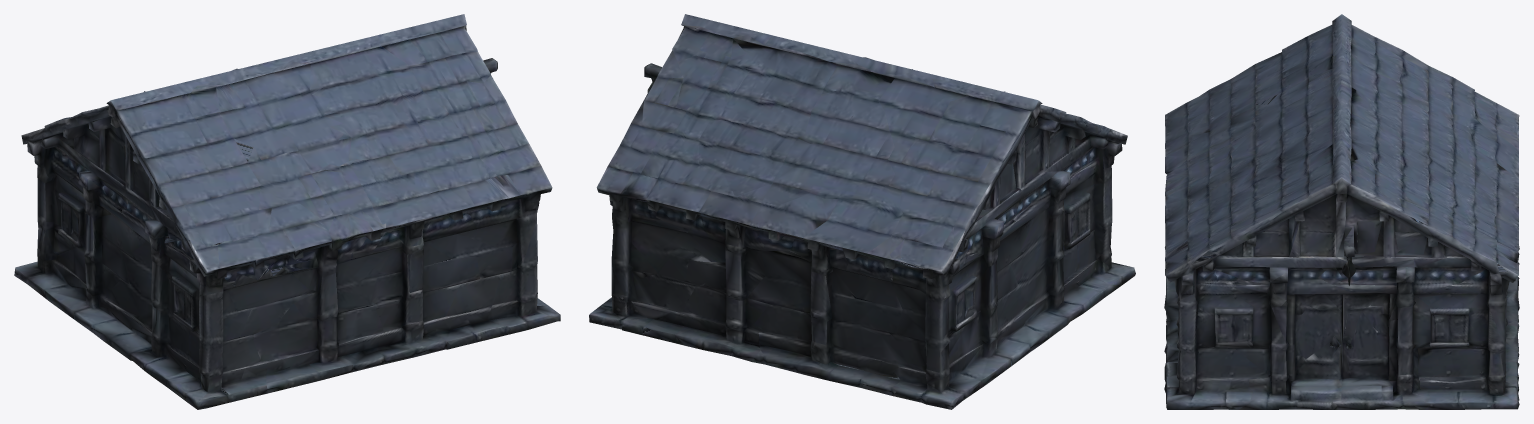
The model's file is storage_iron.glb.
The picture shows the model from 3 angles, left to right: view 1: azimuth 30°, elevation 25°; view 2: azimuth 150°, elevation 25°; view 3: azimuth 270°, elevation 25°; orthographic projection. The views are drawn at different scales.
Parts seen in each view (by area): view 1: tripo_node_4a9589c2-72c2-4fe6-9460-783476ce84f3; view 2: tripo_node_4a9589c2-72c2-4fe6-9460-783476ce84f3; view 3: tripo_node_4a9589c2-72c2-4fe6-9460-783476ce84f3.
Boxes of the visible parts, left/top/right/bottom form: tripo_node_4a9589c2-72c2-4fe6-9460-783476ce84f3: left=14, top=14, right=560, bottom=409; tripo_node_4a9589c2-72c2-4fe6-9460-783476ce84f3: left=589, top=14, right=1135, bottom=409; tripo_node_4a9589c2-72c2-4fe6-9460-783476ce84f3: left=1164, top=14, right=1519, bottom=409.
Bounding box in the file's own units: 0.9795 × 0.5697 × 0.7987.
1 material, 1 textured.
